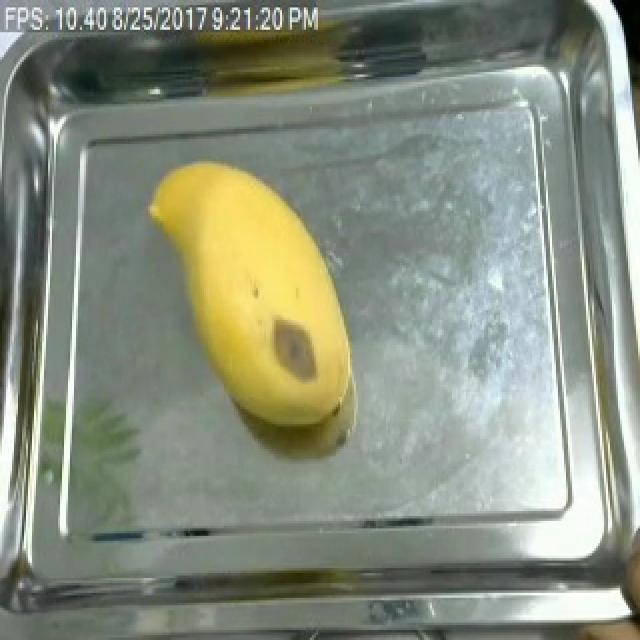fruit: (140, 141, 364, 444)
